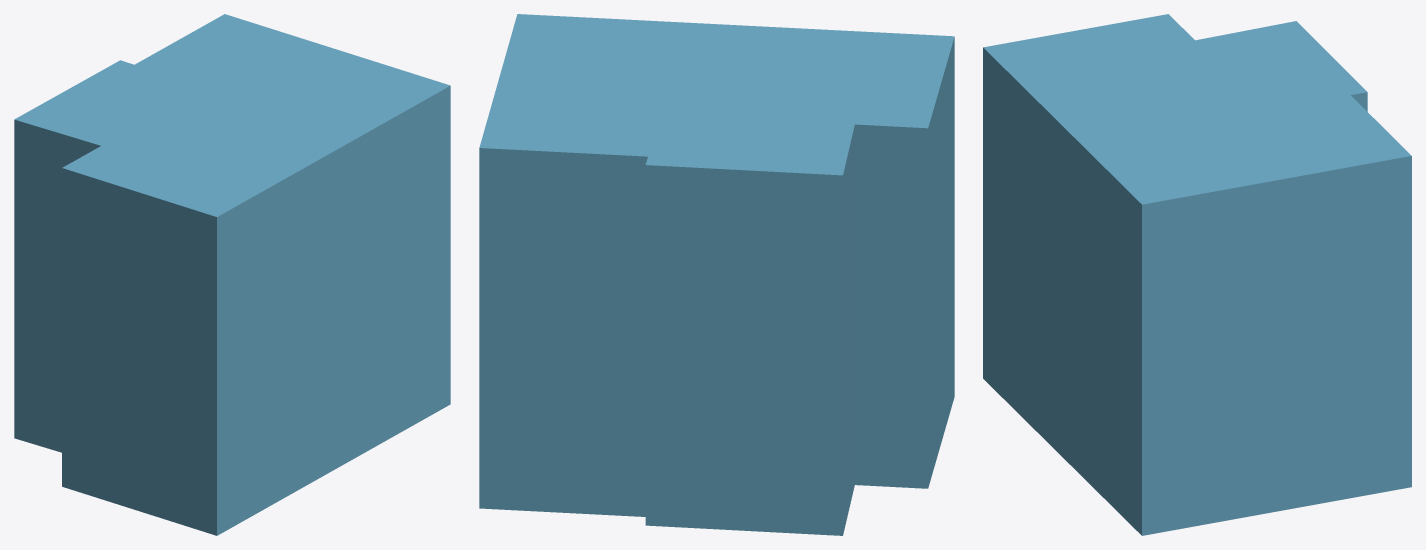
Rendered from bldg_6f8cb178-7895-48a8-8f73-ef8c9c75e9f8.obj.
3 views of the same model, side by side, from view 1: azimuth 30°, elevation 25°; view 2: azimuth 150°, elevation 25°; view 3: azimuth 270°, elevation 25° (orthographic). The views are drawn at different scales.
Bounding box in the file's own units: 11.49 × 9.31 × 10.92.
